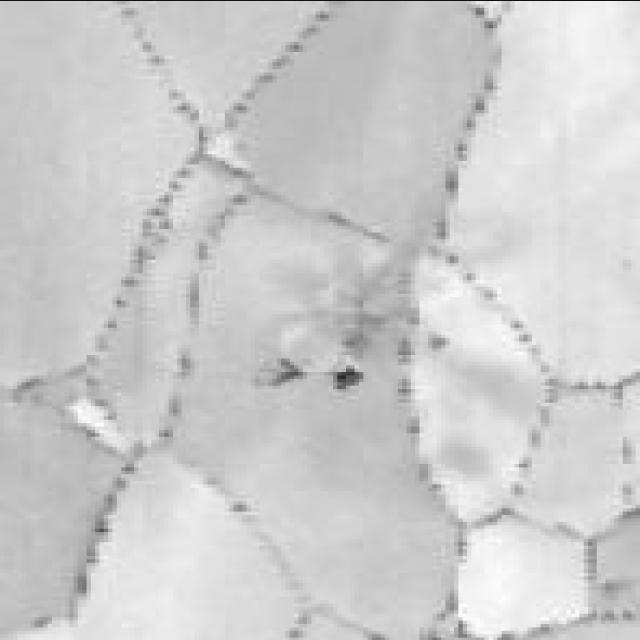good_void: (331, 362, 368, 395), (267, 356, 305, 386), (427, 332, 454, 356)
